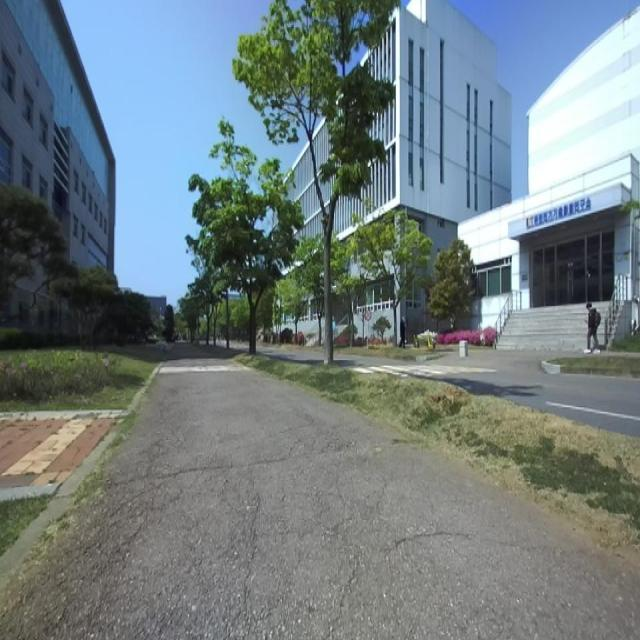sidewalk: (0, 346, 640, 639)
